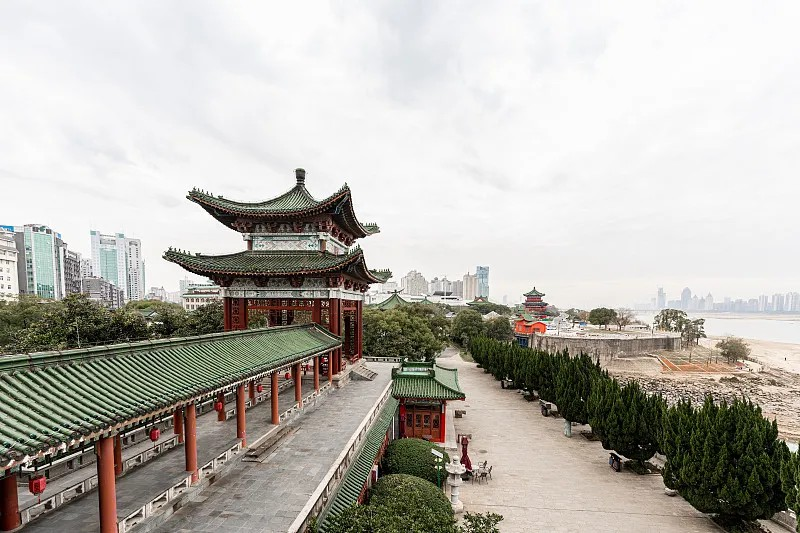Teng: (516, 286, 549, 319)
